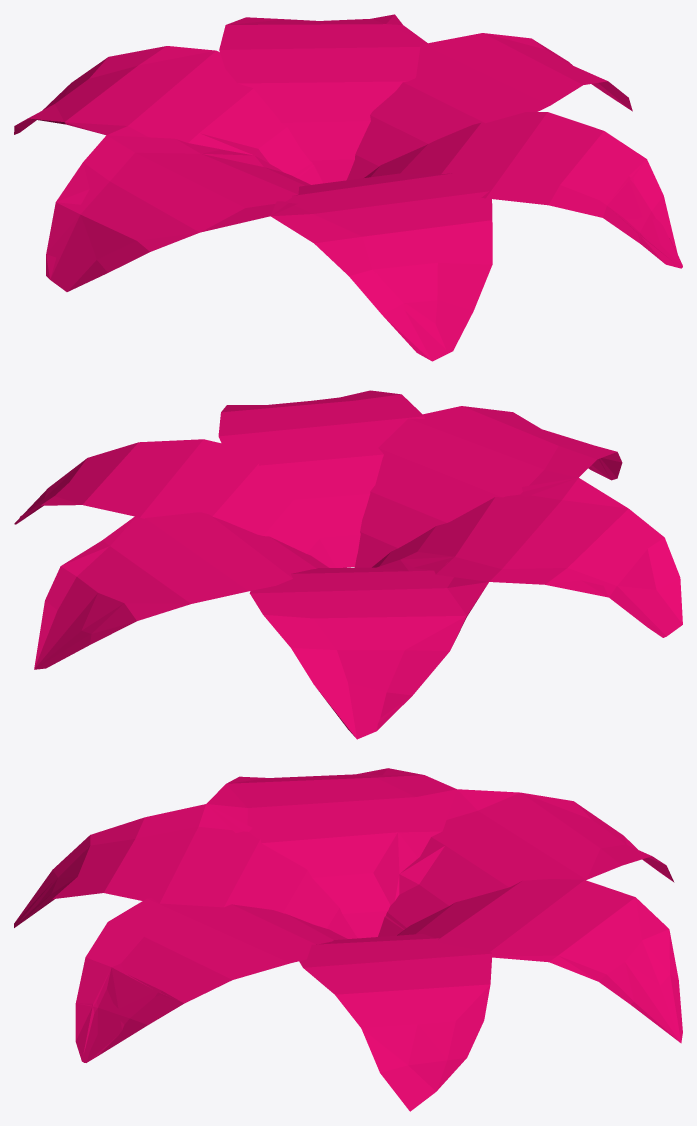
The model's file is FlorLP.fbx.
The picture shows the model from 3 angles, top to bottom: view 1: azimuth 30°, elevation 25°; view 2: azimuth 150°, elevation 25°; view 3: azimuth 270°, elevation 25°; orthographic projection.
Visible parts, largest first — view 1: PlaneLP.; view 2: PlaneLP.; view 3: PlaneLP..
Part boxes in pixels (bbox=[...]): PlaneLP.: bbox=[14, 14, 682, 361]; PlaneLP.: bbox=[14, 390, 682, 739]; PlaneLP.: bbox=[14, 768, 682, 1111].
Size of the model in its own units: 208 by 29.62 by 197.
